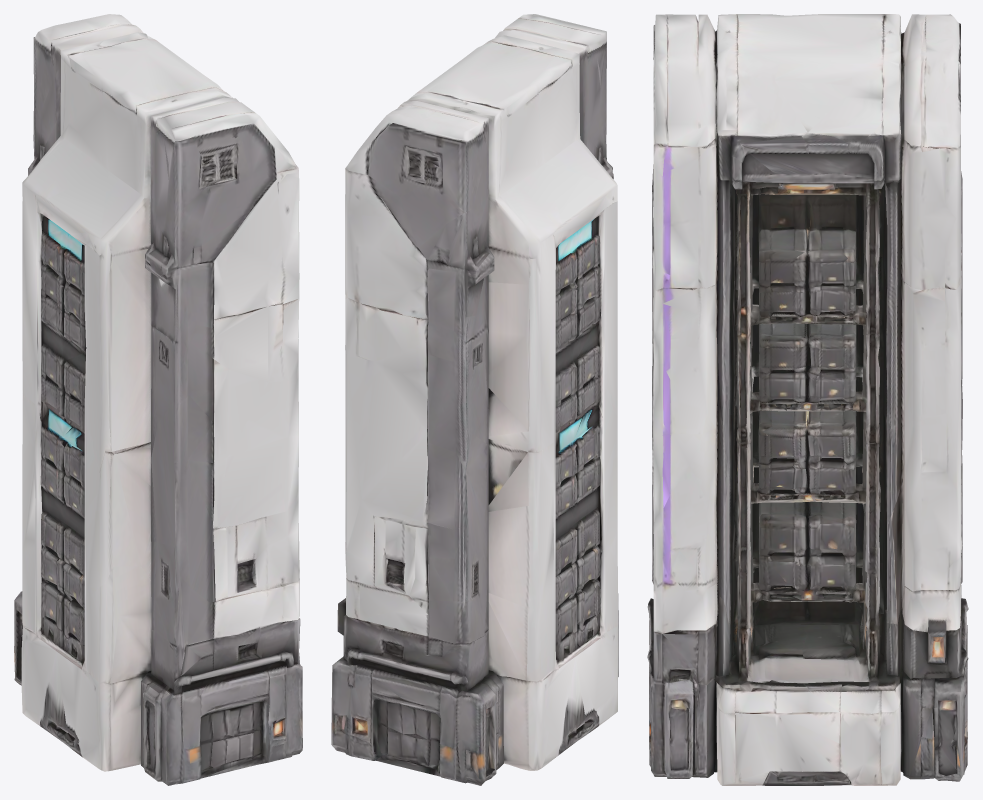
Rendered from rackBay.glb.
3 views of the same model, side by side, from view 1: azimuth 30°, elevation 25°; view 2: azimuth 150°, elevation 25°; view 3: azimuth 270°, elevation 25° (orthographic). The views are drawn at different scales.
Visible parts, largest first — view 1: rackBay; view 2: rackBay; view 3: rackBay.
Boxes of the visible parts, box(x1,y1,x2,y2) form: rackBay: box(14, 14, 302, 785); rackBay: box(331, 14, 618, 785); rackBay: box(647, 14, 968, 785).
Bounding box in the file's own units: 9 × 30 × 12.5.
1 material, 1 textured.
